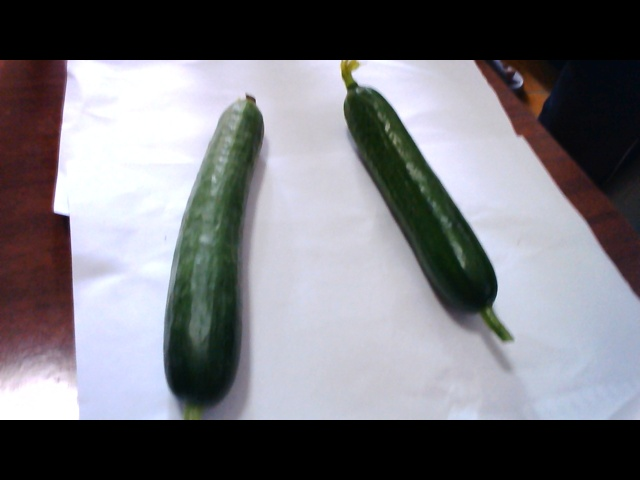cucumber: (326, 71, 507, 329), (149, 91, 270, 413)
